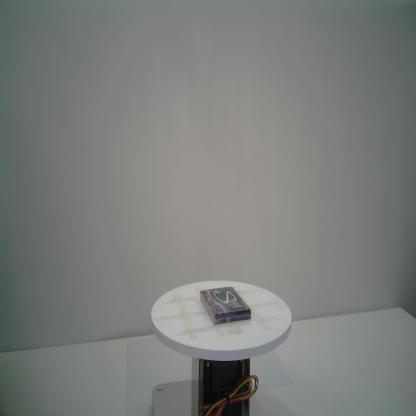Gum: (199, 285, 252, 325)
